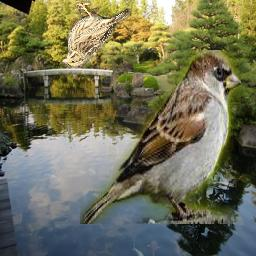Sparrow: (81, 50, 242, 224), (62, 2, 131, 69)
